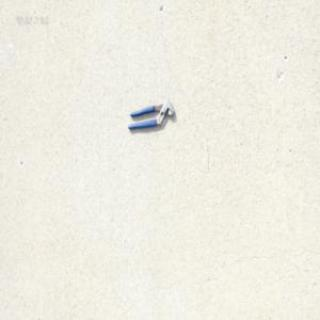Pliertrack_idkeyframe: (124, 99, 174, 131)
